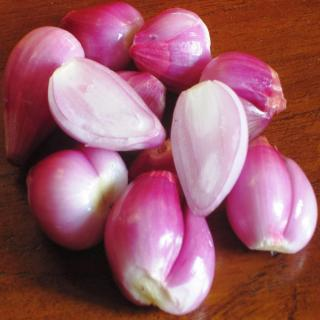Bawang Merah: (3, 3, 318, 316)
